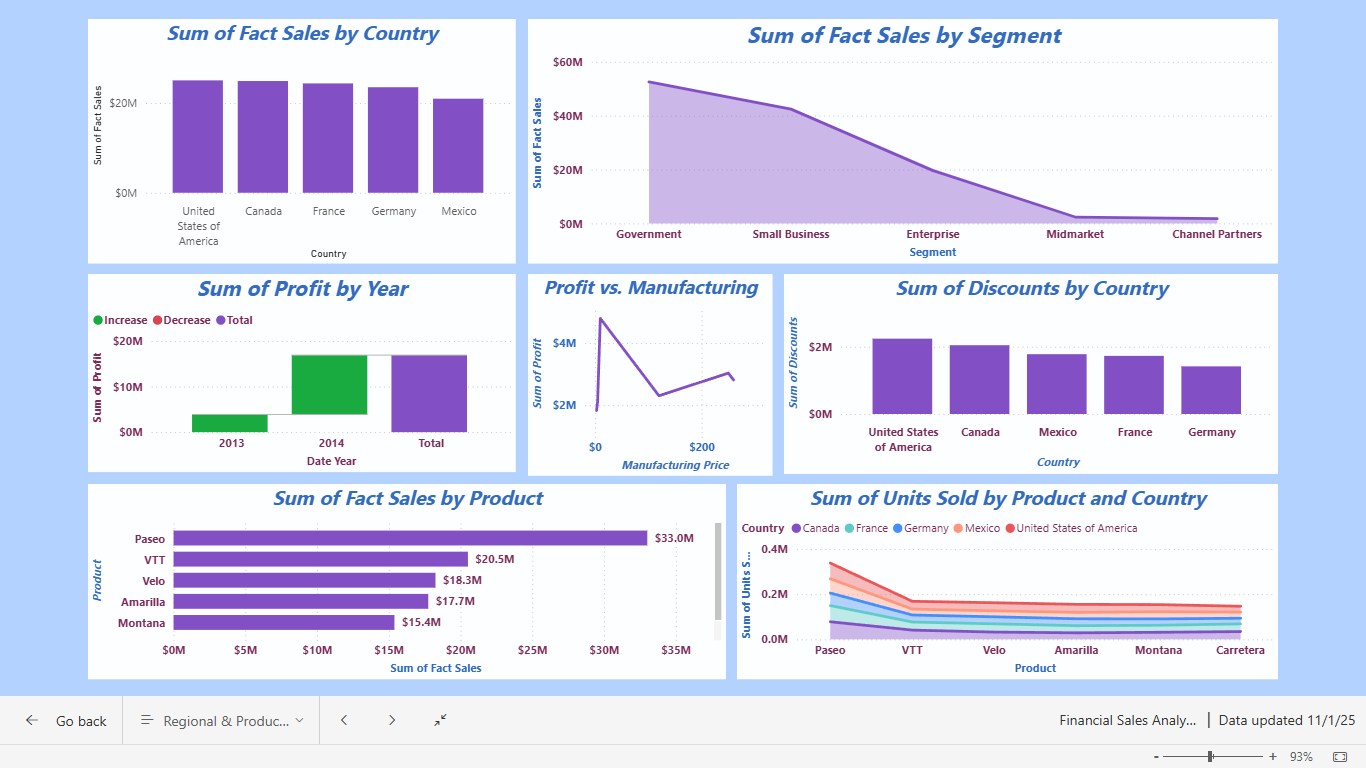

The page's visual inventory and layout, read from the dashboard file:
{"tool":"powerbi","page":{"name":"Regional & Product  Analysis","canvas":[1280,720],"ordinal":1},"visuals":[{"type":"pieChart","fields":{"Category":["Financials.Country"],"Y":["Sum(Financials.Fact Sales)"]},"box":[0,10.3,686.2,263],"z":0},{"type":"areaChart","fields":{"Category":["Financials.Segment"],"Y":["Sum(Financials.Fact Sales)"]},"box":[698,10.3,581.9,263],"z":1000},{"type":"barChart","fields":{"Category":["Financials. Product "],"Y":["Sum(Financials.Fact Sales)"]},"box":[0,509.9,686.2,210.1],"z":2000},{"type":"stackedAreaChart","fields":{"Category":["Financials. Product "],"Series":["Financials.Country"],"Y":["Sum(Financials. Units Sold )"]},"box":[698,509.9,581.9,210.1],"z":3000},{"type":"lineStackedColumnComboChart","fields":{"Category":["Financials.Country"],"Y":["Sum(Financials. Discounts )"]},"box":[747.9,283.6,531.9,214.5],"z":4000},{"type":"waterfallChart","fields":{"Y":["Sum(Financials.Profit)"],"Category":["Financials.Date.Variation.Date Hierarchy.Year","Financials.Date.Variation.Date Hierarchy.Month"]},"box":[0,283.6,459.9,213.1],"z":5000},{"type":"lineChart","title":"Profit vs. Manufacturing","fields":{"Y":["Sum(Financials.Profit)"],"Category":["Financials. Manufacturing Price "]},"box":[473.1,283.6,263,217.5],"z":6000}]}

Visuals, with their boxes on the page's 1280x720 design canvas (x1, y1, x2, y2). These are canvas units, not pixel positions in the 1366x768 screenshot, which may show the page scaled, cropped or inside an application window:
pieChart - Financials.Country x Sum(Financials.Fact Sales): [0,10,686,273]
areaChart - Financials.Segment x Sum(Financials.Fact Sales): [698,10,1280,273]
barChart - Financials. Product  x Sum(Financials.Fact Sales): [0,510,686,720]
stackedAreaChart - Financials. Product  x Financials.Country: [698,510,1280,720]
lineStackedColumnComboChart - Financials.Country x Sum(Financials. Discounts ): [748,284,1280,498]
waterfallChart - Sum(Financials.Profit) x Financials.Date.Variation.Date Hierarchy.Year: [0,284,460,497]
"Profit vs. Manufacturing" lineChart: [473,284,736,501]
